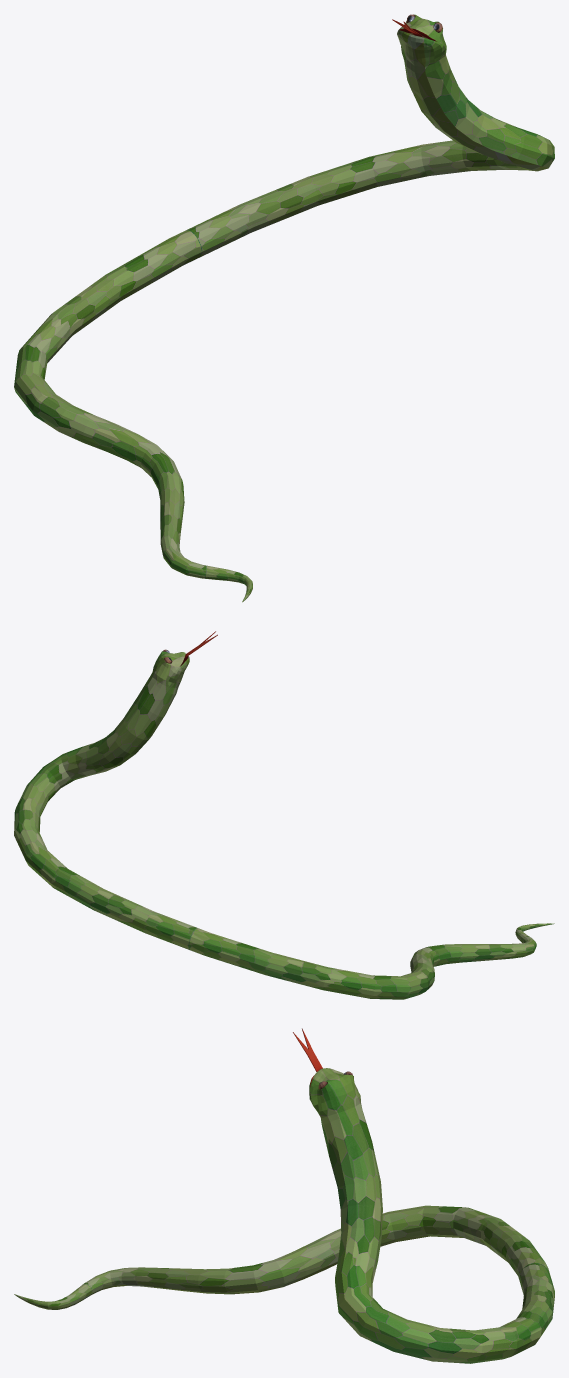
Rendered from Snake_01.FBX.
3 renders of one model, top to bottom at view 1: azimuth 30°, elevation 25°; view 2: azimuth 150°, elevation 25°; view 3: azimuth 270°, elevation 25°, orthographic. The views are drawn at different scales.
Visible parts, largest first — view 1: Snake_01; view 2: Snake_01; view 3: Snake_01.
Part boxes in pixels (bbox=[...]): Snake_01: bbox=[14, 14, 554, 602]; Snake_01: bbox=[14, 631, 554, 999]; Snake_01: bbox=[14, 1028, 554, 1363].
Size of the model in its own units: 16.19 by 12.32 by 14.6.
